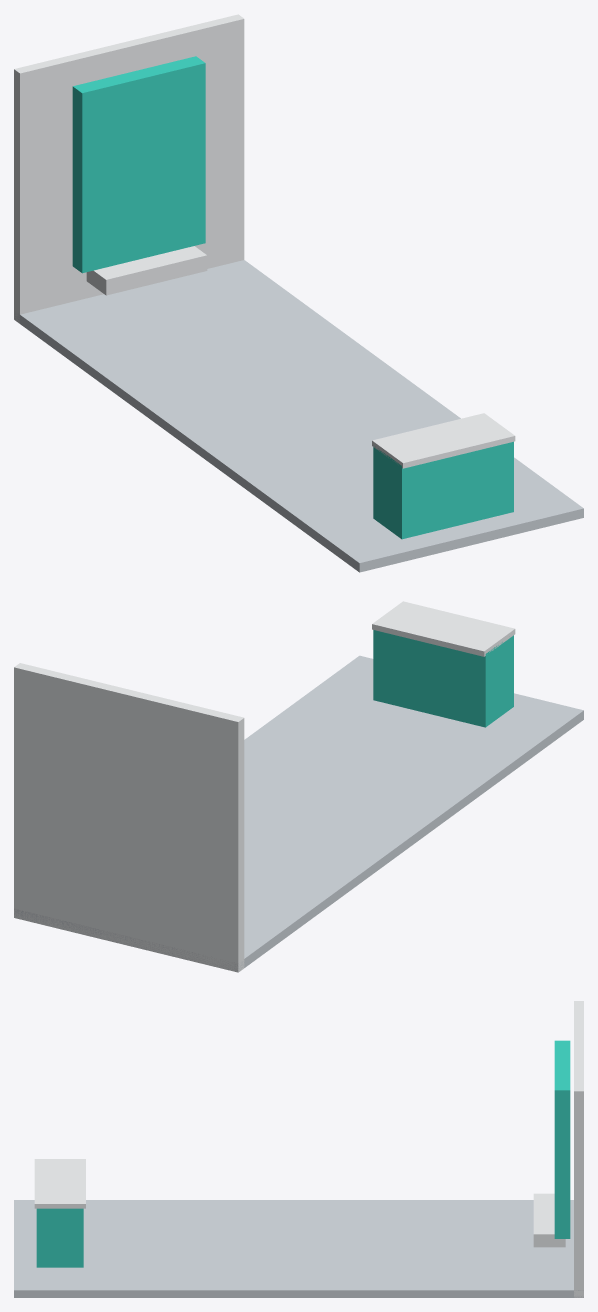
3 views of the same model, one above another, from view 1: azimuth 30°, elevation 25°; view 2: azimuth 150°, elevation 25°; view 3: azimuth 270°, elevation 25° (orthographic). The views are drawn at different scales.
Visible parts, largest first — view 1: Exhibition Booth Concept; view 2: Exhibition Booth Concept; view 3: Exhibition Booth Concept.
Boxes of the visible parts, x1,y1,x2,y2 form: Exhibition Booth Concept: (14, 14, 583, 572); Exhibition Booth Concept: (14, 601, 583, 972); Exhibition Booth Concept: (14, 1001, 583, 1297).
Bounding box in the file's own units: 3 × 3.2 × 8.
